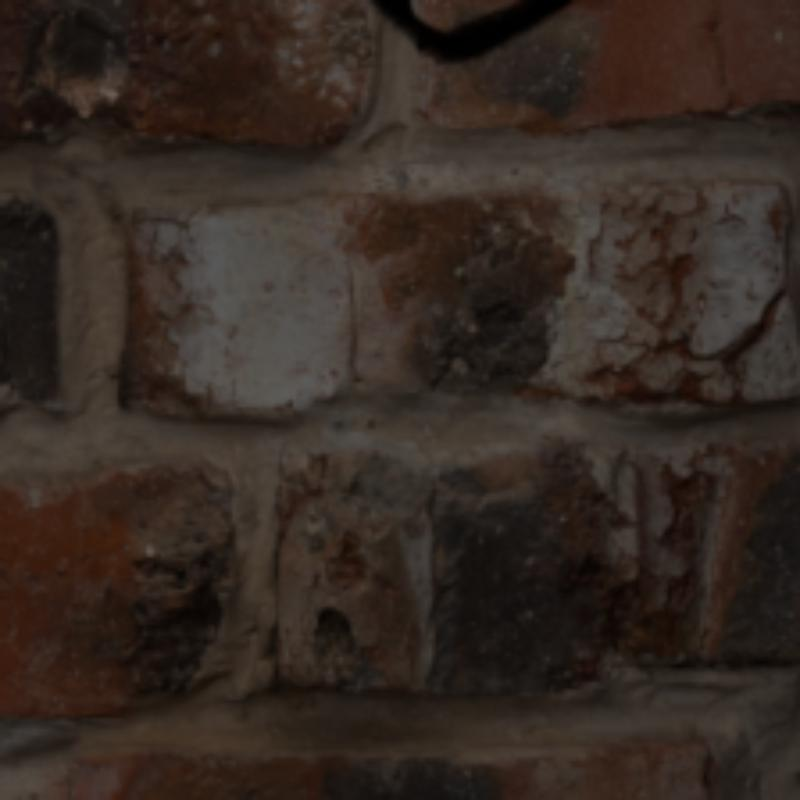pothole: (361, 0, 575, 64), (346, 271, 357, 379), (714, 332, 761, 357), (764, 289, 786, 321), (679, 339, 693, 357), (643, 346, 661, 350), (693, 357, 711, 361), (618, 343, 639, 346), (600, 339, 614, 343), (664, 343, 679, 346), (761, 321, 764, 332)
